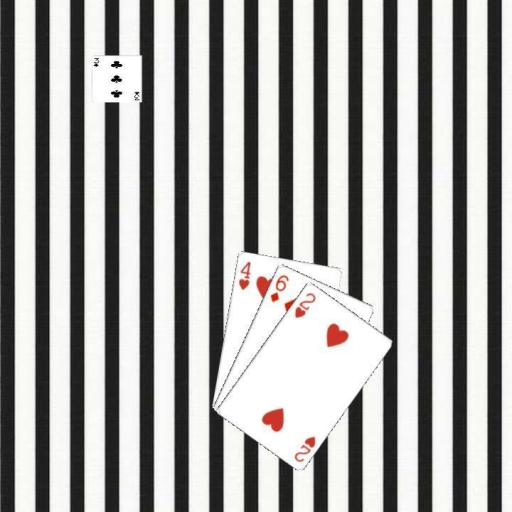card-corner: (291, 432, 317, 463), (267, 271, 290, 304), (292, 289, 317, 319), (235, 258, 252, 291)
